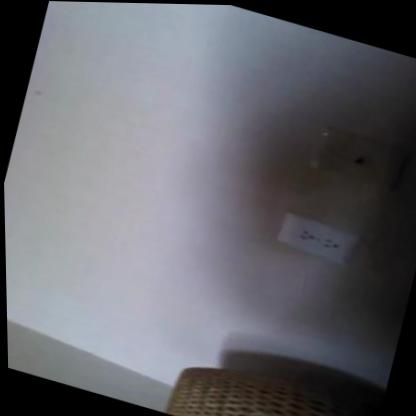OUTLET: (275, 210, 358, 263)
